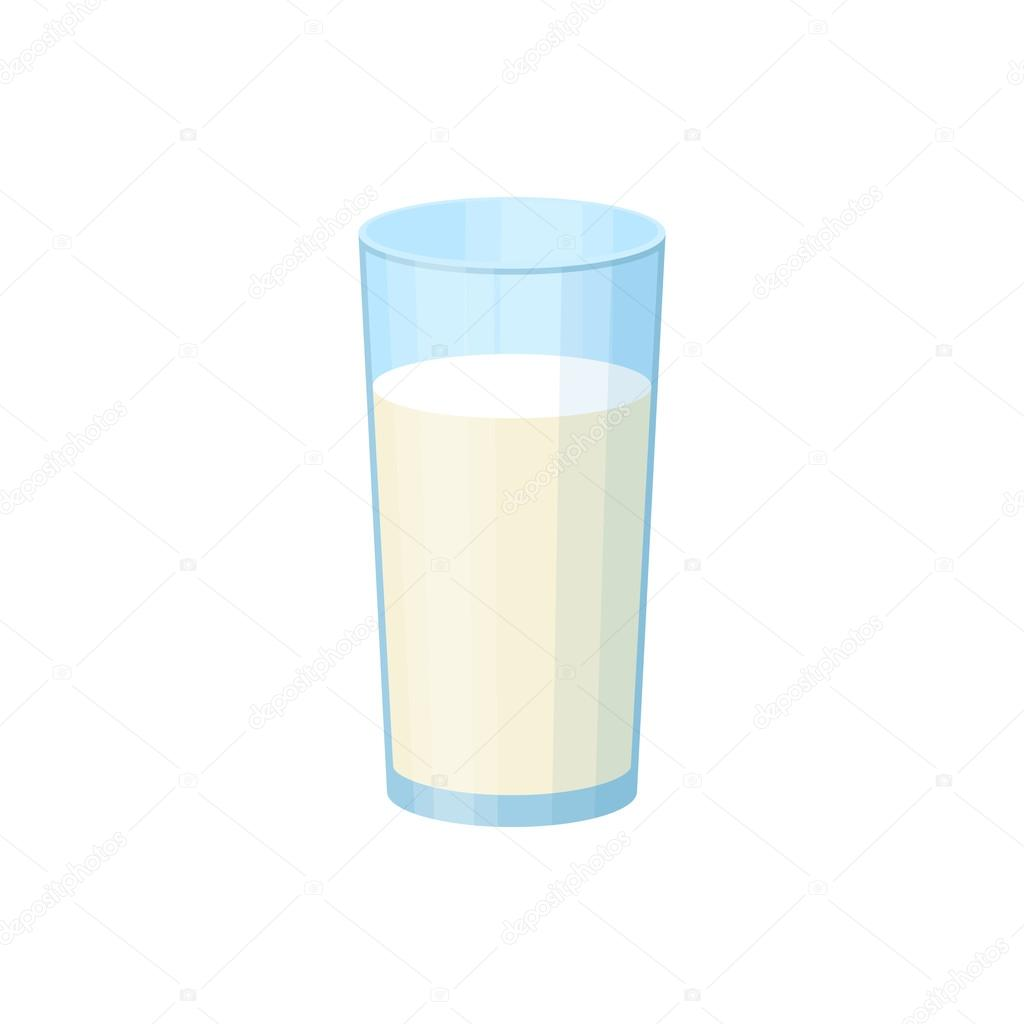glass of milk: (370, 250, 655, 819)
